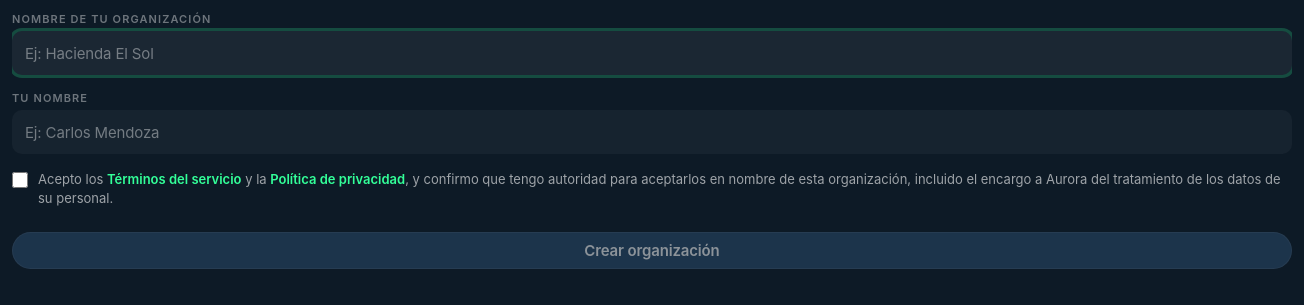
Test: <FincaForm /> consent › without consent the submit never reaches the parent
The width and height of the screenshot is (1304, 305).
In the field labelled "Nombre de tu organización": coordinates (652, 53) [12, 31, 1292, 75], type "Finca Test"
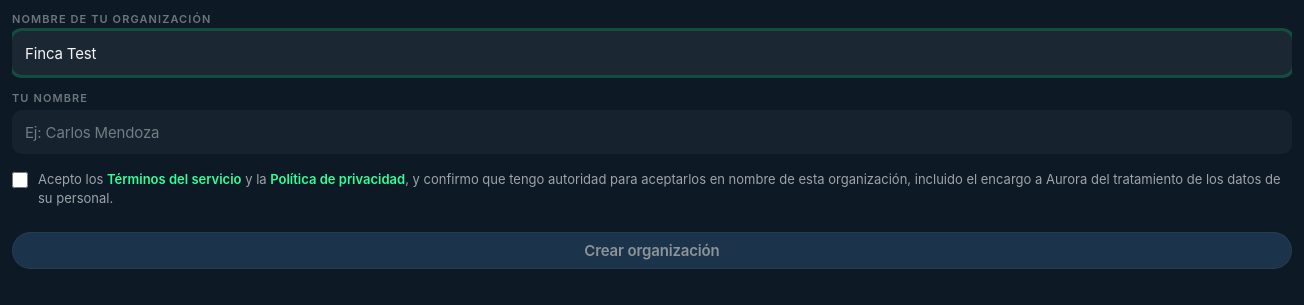
In the field labelled "Tu nombre": coordinates (652, 132) [12, 110, 1292, 154], type "Ana Mora"
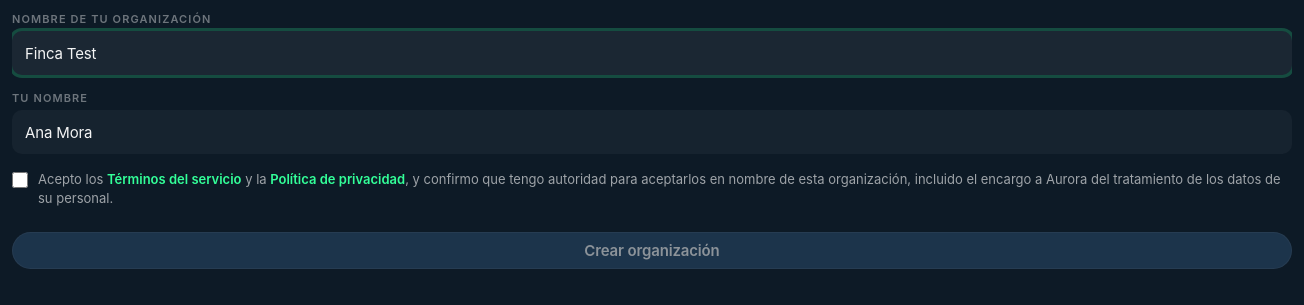
Submit the form
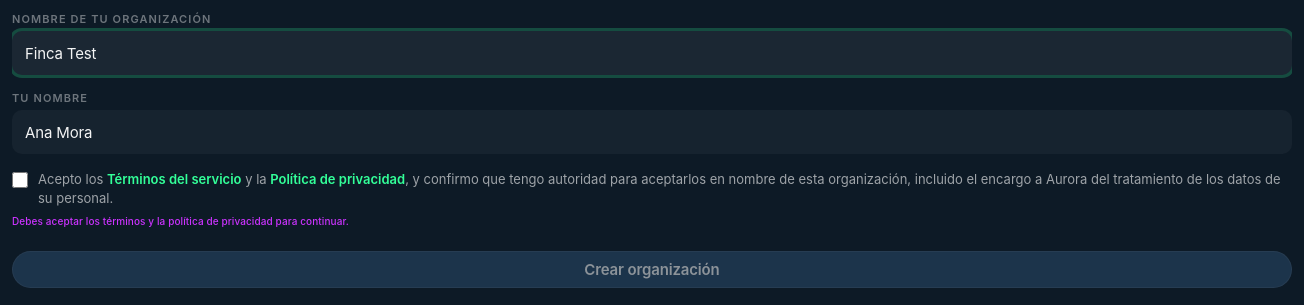
Expected: the text "Debes aceptar" is shown, [12, 215, 349, 227]
